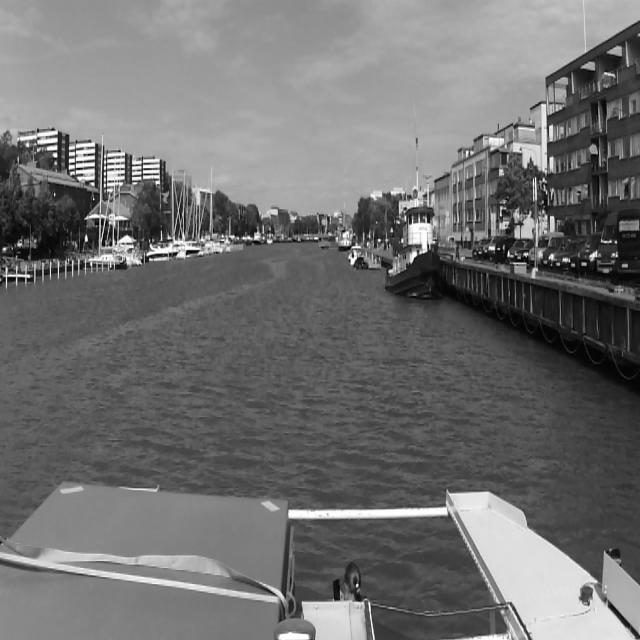ship: (384, 133, 447, 307), (82, 132, 128, 270), (98, 156, 144, 270), (164, 172, 200, 260), (198, 165, 228, 256), (186, 184, 216, 254), (143, 240, 179, 263), (338, 204, 352, 253), (318, 234, 338, 250), (350, 245, 362, 265), (253, 223, 263, 247), (354, 257, 370, 271)
